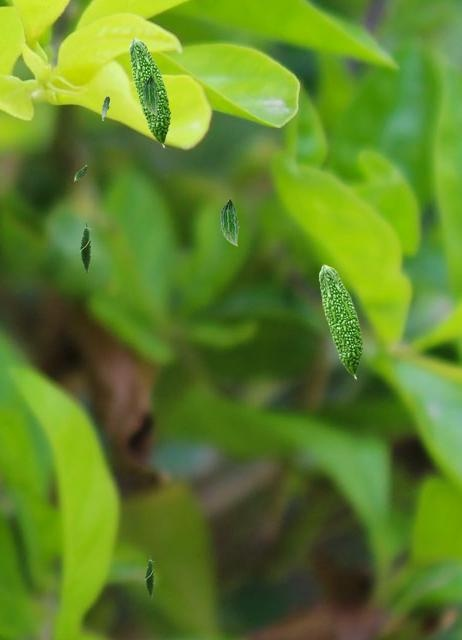ampalaya: (318, 264, 364, 380), (128, 37, 172, 149), (219, 197, 239, 246), (142, 73, 159, 116), (79, 221, 92, 274), (144, 555, 155, 599), (73, 164, 88, 182), (101, 94, 110, 121)
